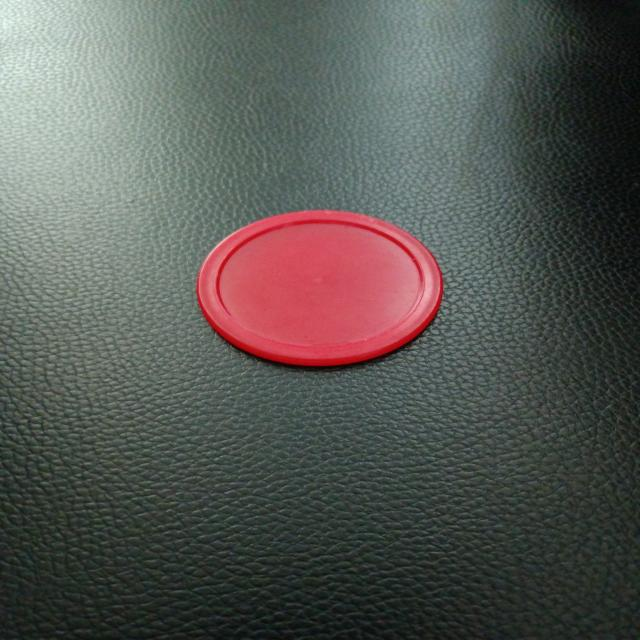chip: (192, 206, 446, 366)
